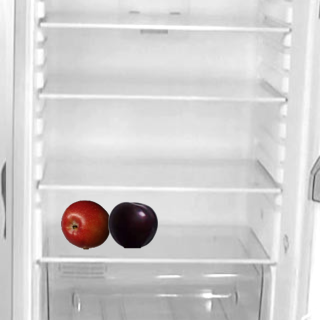Apple Braeburn: (60, 199, 110, 249)
Cherry Wax Black: (107, 199, 157, 249)
